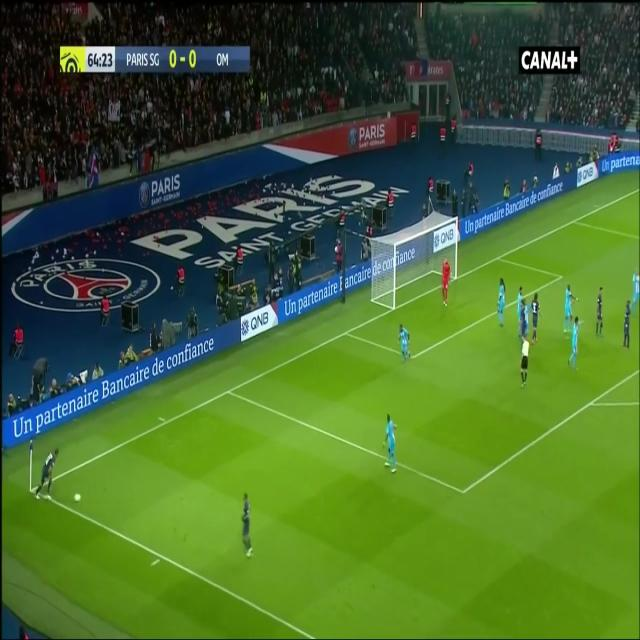Ball: (72, 492, 82, 504)
Goalkeeper: (441, 256, 453, 309)
Player: (33, 445, 61, 502), (381, 413, 400, 478), (240, 492, 256, 562), (562, 284, 581, 337), (395, 321, 414, 367), (566, 316, 581, 374), (593, 284, 606, 337), (496, 276, 508, 331), (530, 292, 542, 344), (622, 298, 632, 354), (630, 266, 640, 314), (520, 300, 530, 339), (515, 284, 523, 320)
Referee: (517, 333, 531, 392)
